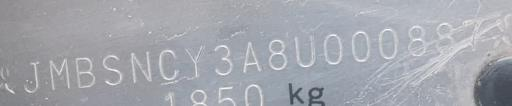letter: (128, 48, 154, 86), (292, 31, 318, 69), (72, 54, 98, 91), (460, 13, 484, 52), (321, 30, 345, 68), (182, 41, 206, 79), (46, 55, 72, 90), (100, 52, 124, 88), (376, 24, 400, 60), (20, 57, 44, 92), (267, 35, 289, 73), (242, 37, 264, 75), (210, 42, 234, 76), (434, 19, 456, 55), (158, 46, 180, 81), (406, 23, 428, 57), (350, 28, 370, 64)
